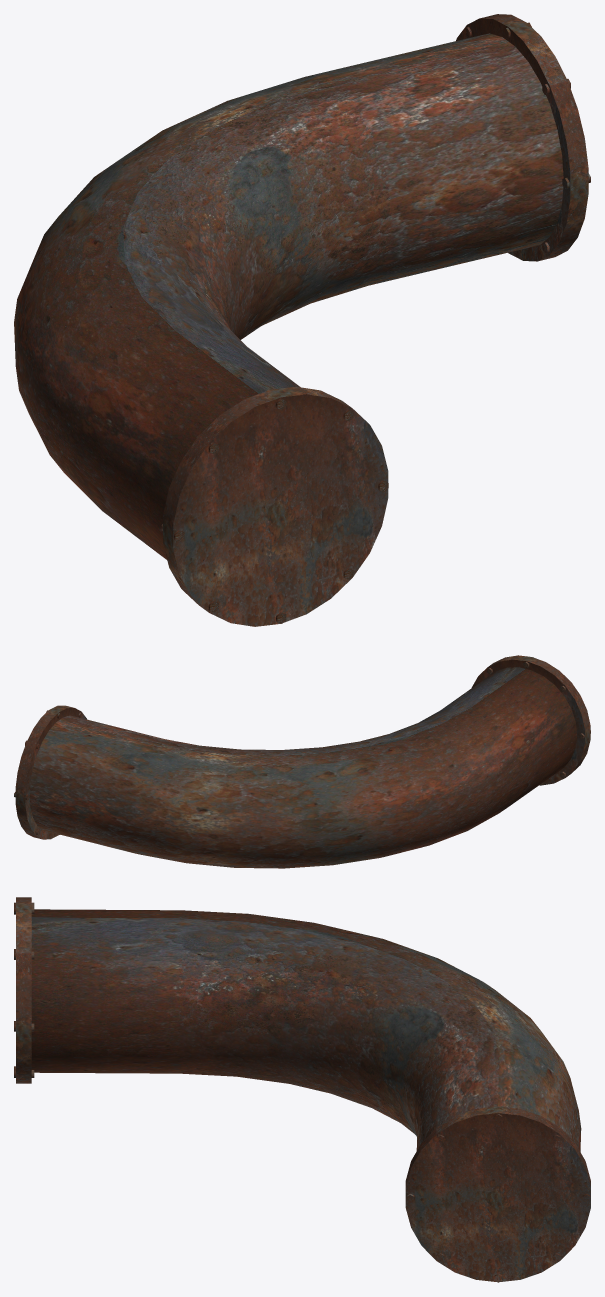
File: pipe_turn.FBX
3 views of the same model, one above another, from view 1: azimuth 30°, elevation 25°; view 2: azimuth 150°, elevation 25°; view 3: azimuth 270°, elevation 25° (orthographic). The views are drawn at different scales.
Visible parts, largest first — view 1: Cylinder001, Cylinder039, Cylinder012; view 2: Cylinder001, Cylinder039, Cylinder012; view 3: Cylinder001, Cylinder012, Cylinder039.
Part boxes in pixels (bbox=[...]): Cylinder001: bbox=[14, 33, 563, 559]; Cylinder039: bbox=[163, 386, 388, 626]; Cylinder012: bbox=[456, 14, 588, 261]; Cylinder001: bbox=[29, 667, 577, 868]; Cylinder039: bbox=[471, 655, 590, 785]; Cylinder012: bbox=[15, 705, 86, 839]; Cylinder001: bbox=[31, 909, 581, 1151]; Cylinder012: bbox=[405, 1106, 590, 1281]; Cylinder039: bbox=[16, 897, 31, 1083].
Size of the model in its own units: 17.95 by 5.72 by 17.68.
Materials: 1 (1 with a texture image).
